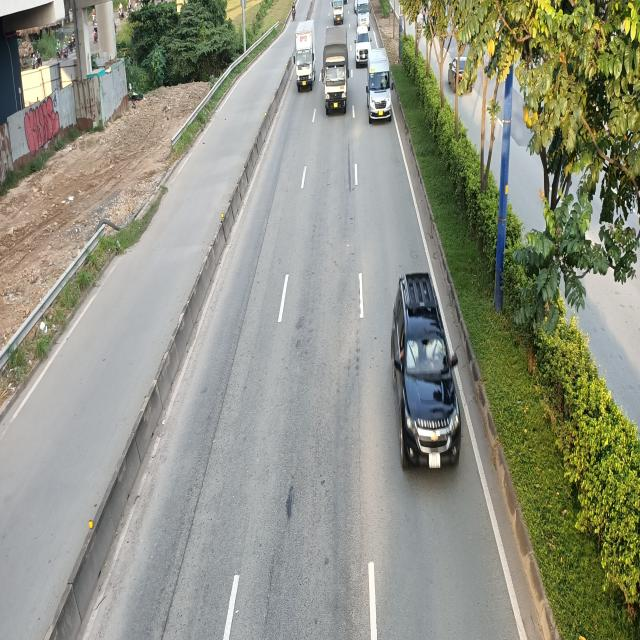car: (393, 272, 462, 474), (355, 26, 372, 66)
truck: (321, 28, 350, 116), (294, 23, 314, 90)
van: (365, 48, 392, 122)
